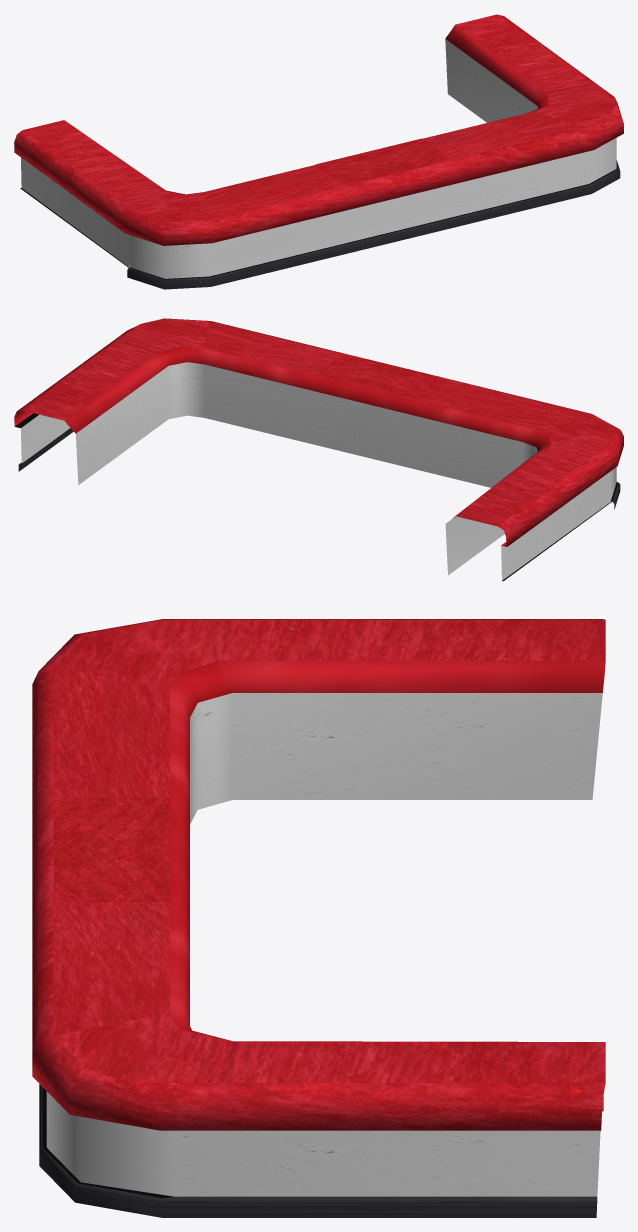
Rendered from Mostrador.obj.
The picture shows the model from 3 angles, top to bottom: view 1: azimuth 30°, elevation 25°; view 2: azimuth 150°, elevation 25°; view 3: azimuth 270°, elevation 25°; orthographic projection. The views are drawn at different scales.
Parts seen in each view (by area): view 1: PC_Scene polySurface5 polySurface2, PC_Scene polySurface2 polySurface4, pasted__polySurface4 pasted__polySurface2 pasted__PC_Scene group, pasted__polySurface3 pasted__polySurface2 pasted__PC_Scene group, pasted__polySurface1 pasted__PC_Scene group2; view 2: PC_Scene polySurface5 polySurface2, PC_Scene polySurface2 polySurface4, pasted__polySurface4 pasted__polySurface2 pasted__PC_Scene group, pasted__polySurface3 pasted__polySurface2 pasted__PC_Scene group, PC_Scene polySurface2 polySurface3, pasted__polySurface1 pasted__PC_Scene group2; view 3: PC_Scene polySurface5 polySurface2, pasted__polySurface4 pasted__polySurface2 pasted__PC_Scene group, PC_Scene polySurface2 polySurface3, PC_Scene polySurface2 polySurface4, polySurface1 PC_Scene.
Boxes of the visible parts, box(x1,y1,x2,y2) form: PC_Scene polySurface5 polySurface2: box(124, 92, 623, 289); PC_Scene polySurface2 polySurface4: box(445, 14, 615, 122); pasted__polySurface4 pasted__polySurface2 pasted__PC_Scene group: box(16, 120, 165, 215); pasted__polySurface3 pasted__polySurface2 pasted__PC_Scene group: box(14, 143, 129, 267); pasted__polySurface1 pasted__PC_Scene group2: box(14, 135, 126, 223); PC_Scene polySurface5 polySurface2: box(141, 318, 623, 509); PC_Scene polySurface2 polySurface4: box(17, 324, 168, 484); pasted__polySurface4 pasted__polySurface2 pasted__PC_Scene group: box(445, 445, 614, 575); pasted__polySurface3 pasted__polySurface2 pasted__PC_Scene group: box(501, 457, 617, 581); PC_Scene polySurface2 polySurface3: box(14, 411, 73, 471); pasted__polySurface1 pasted__PC_Scene group2: box(503, 450, 617, 537); PC_Scene polySurface5 polySurface2: box(32, 619, 235, 1217); pasted__polySurface4 pasted__polySurface2 pasted__PC_Scene group: box(162, 619, 605, 799); PC_Scene polySurface2 polySurface3: box(159, 1111, 601, 1217); PC_Scene polySurface2 polySurface4: box(131, 1041, 605, 1094); polySurface1 PC_Scene: box(160, 1095, 603, 1111).
Bounding box in the file's own units: 8 × 1.01 × 4.03.
5 materials, 3 textured.
